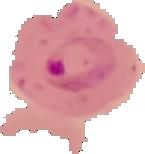parasitized: (41, 37, 124, 88)
